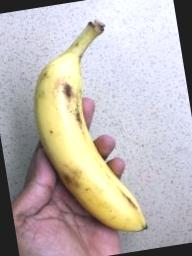Banana Ripe: (19, 9, 176, 254)
